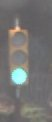Green: (4, 16, 30, 101)
